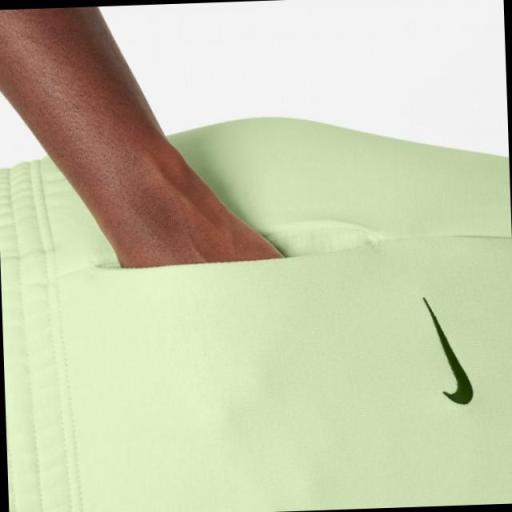Nike: (418, 279, 473, 418)
